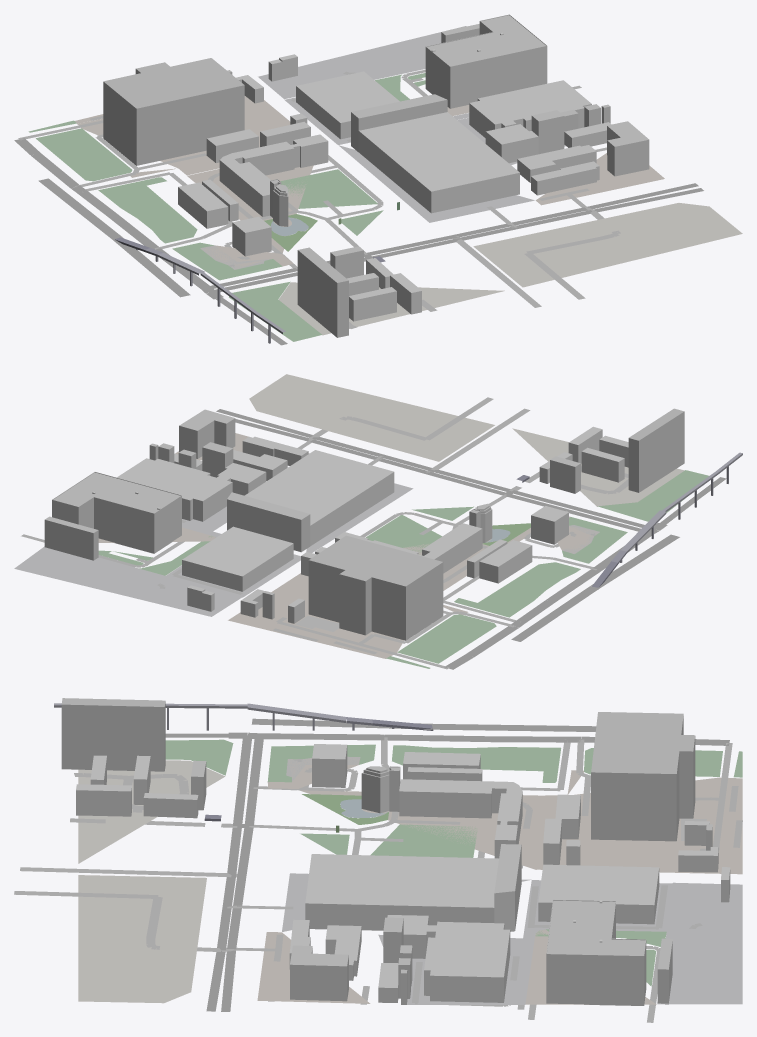
3 renders of one model, top to bottom at view 1: azimuth 30°, elevation 25°; view 2: azimuth 150°, elevation 25°; view 3: azimuth 270°, elevation 25°, orthographic. The views are drawn at different scales.
Bounding box in the file's own units: 537 × 57.37 × 549.
